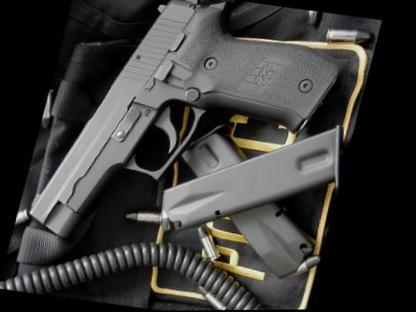pistol: (21, 0, 360, 275)
